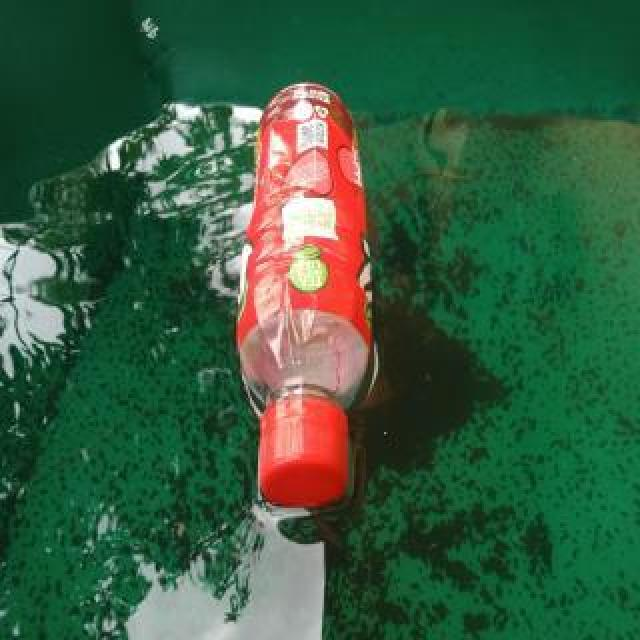bottle: (234, 72, 376, 514)
